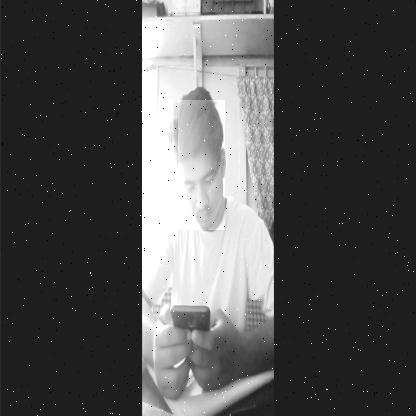Normal: (178, 100, 225, 230)
